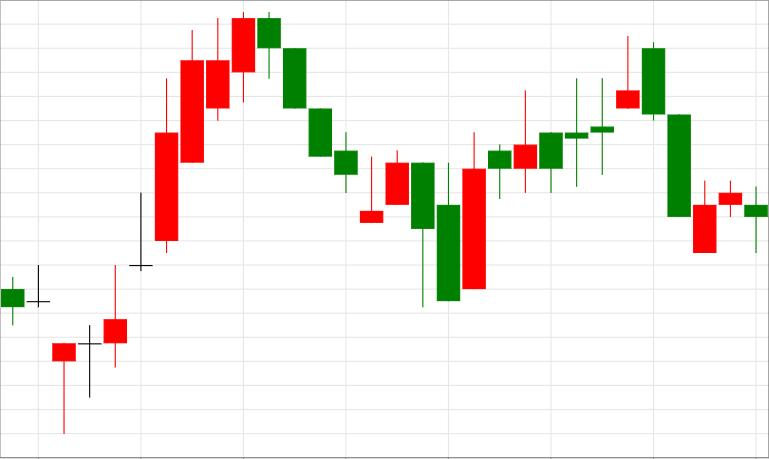three_black_crows_fall: (52, 11, 332, 433)
